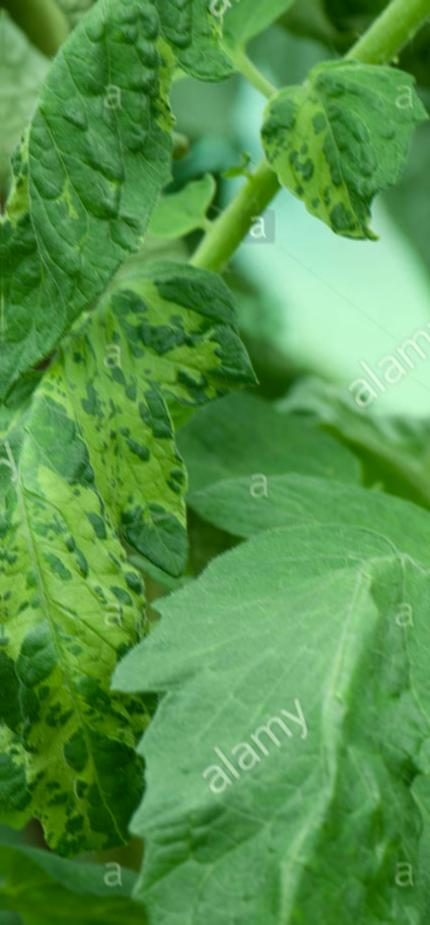Tomato leaf mosaic virus: (0, 208, 221, 864), (105, 496, 430, 925), (0, 0, 307, 380), (226, 69, 418, 259)
